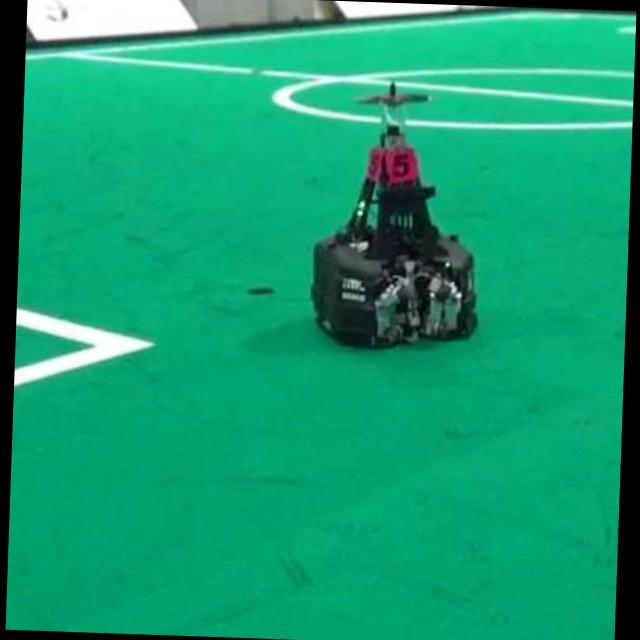robot: (310, 82, 472, 346)
